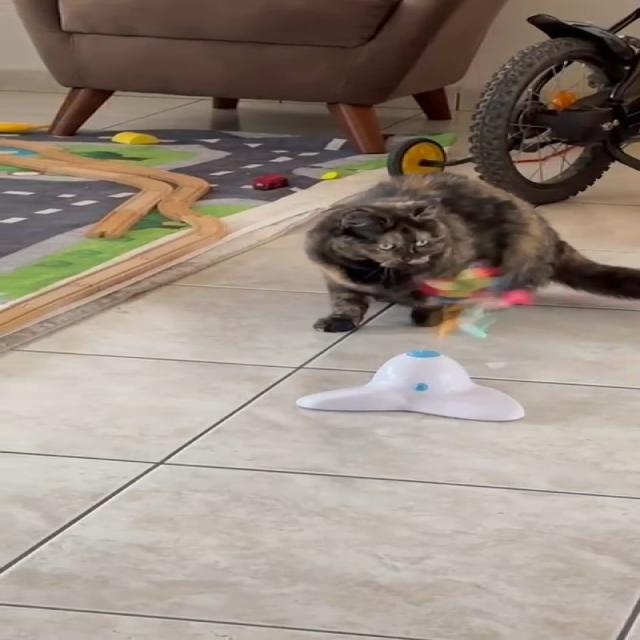authorized: (302, 170, 638, 333)
